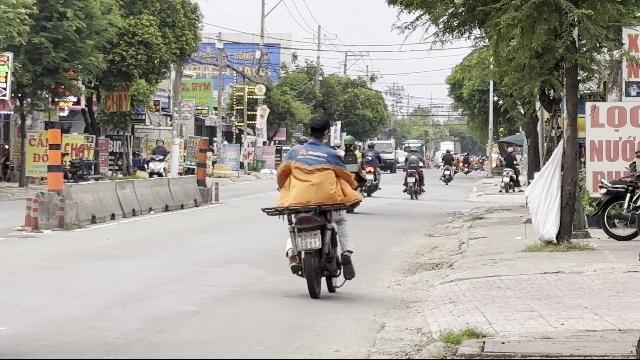licenseplate: (294, 229, 320, 249)
motorcyclist: (261, 112, 363, 298)
nohelmet: (307, 115, 331, 142)
